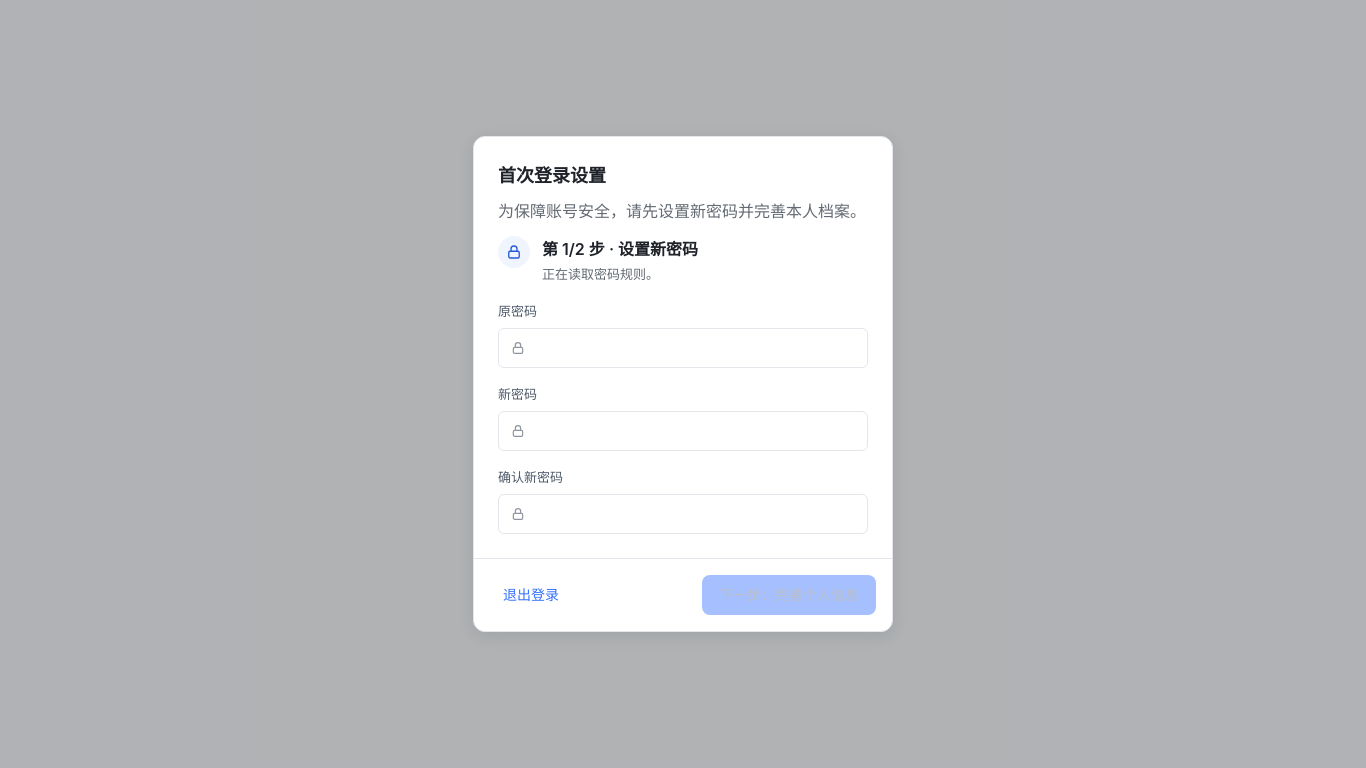
Test: FirstLoginWizard › shows backend password errors and stays on the password step
Step 1. Type "old-password1" into the password field labelled "原密码" → (683, 348), box x1=498 y1=328 x2=868 y2=368
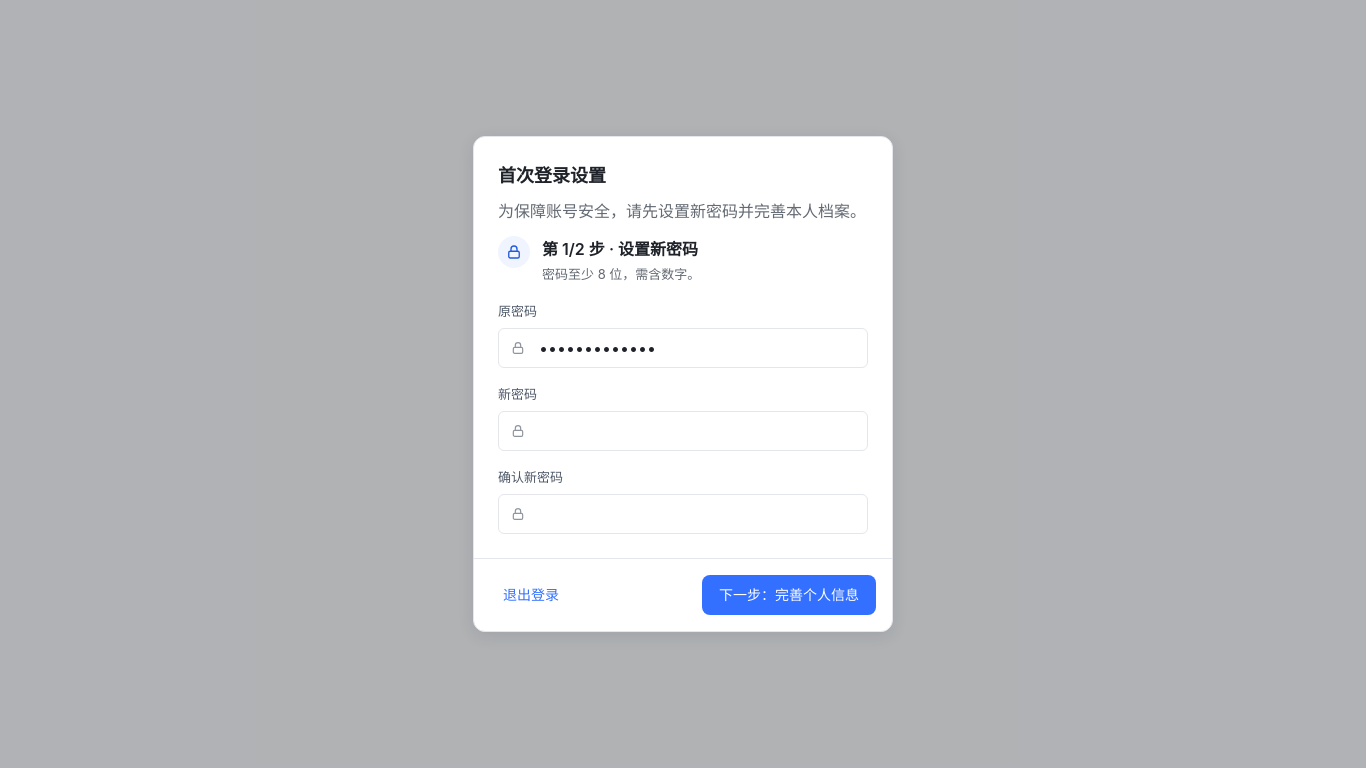
Step 2. Type "new-password1" into the password field labelled "新密码" → (683, 431), box x1=498 y1=411 x2=868 y2=451
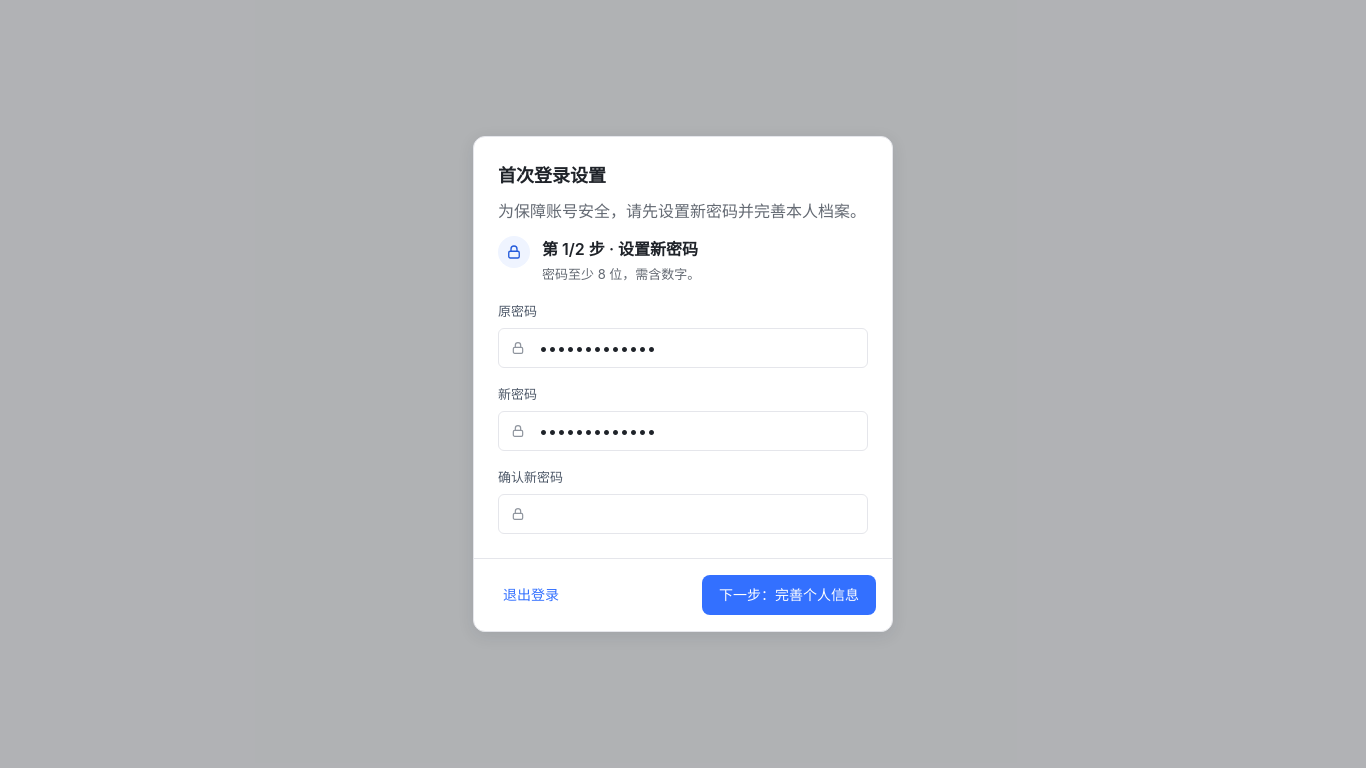
Step 3. Type "new-password1" into the password field labelled "确认新密码" → (683, 514), box x1=498 y1=494 x2=868 y2=534
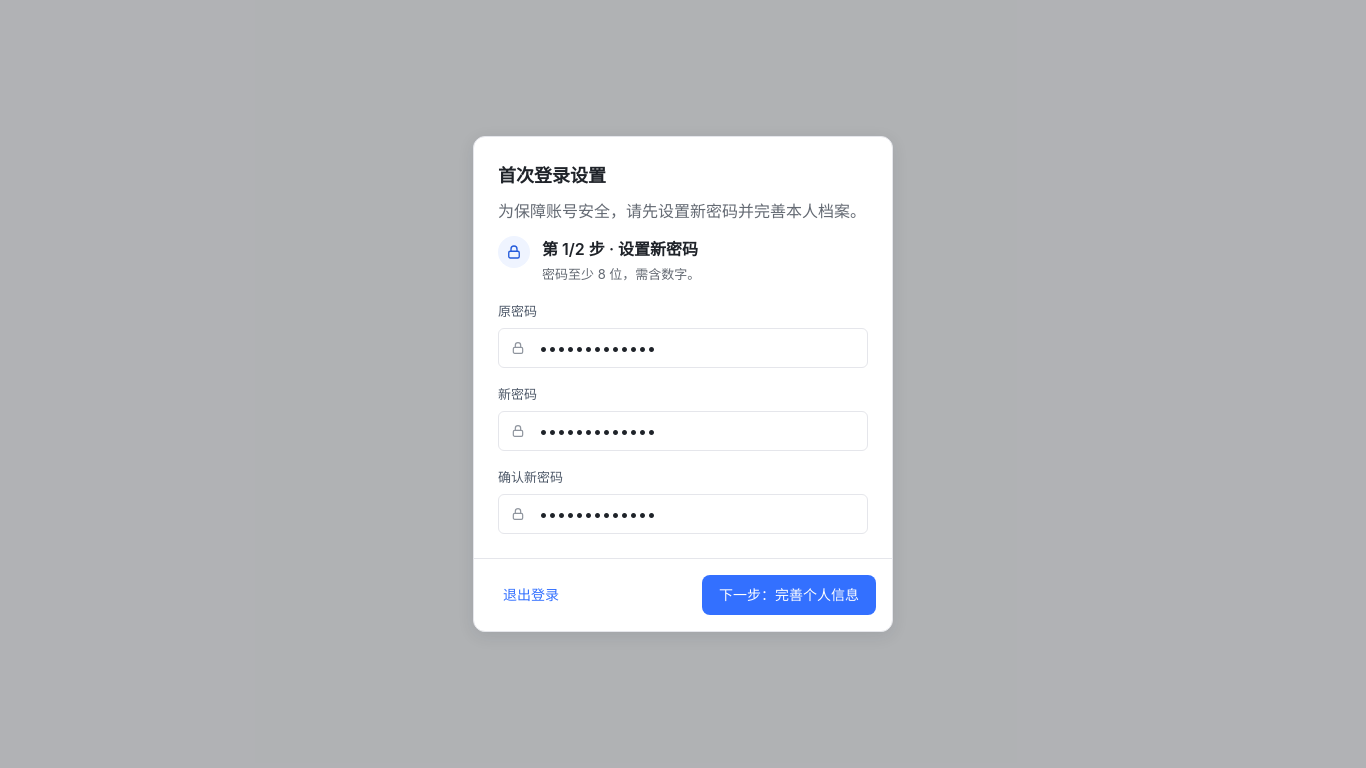
Step 4. Click the button "下一步：完善个人信息" → (789, 595), box x1=702 y1=575 x2=876 y2=615
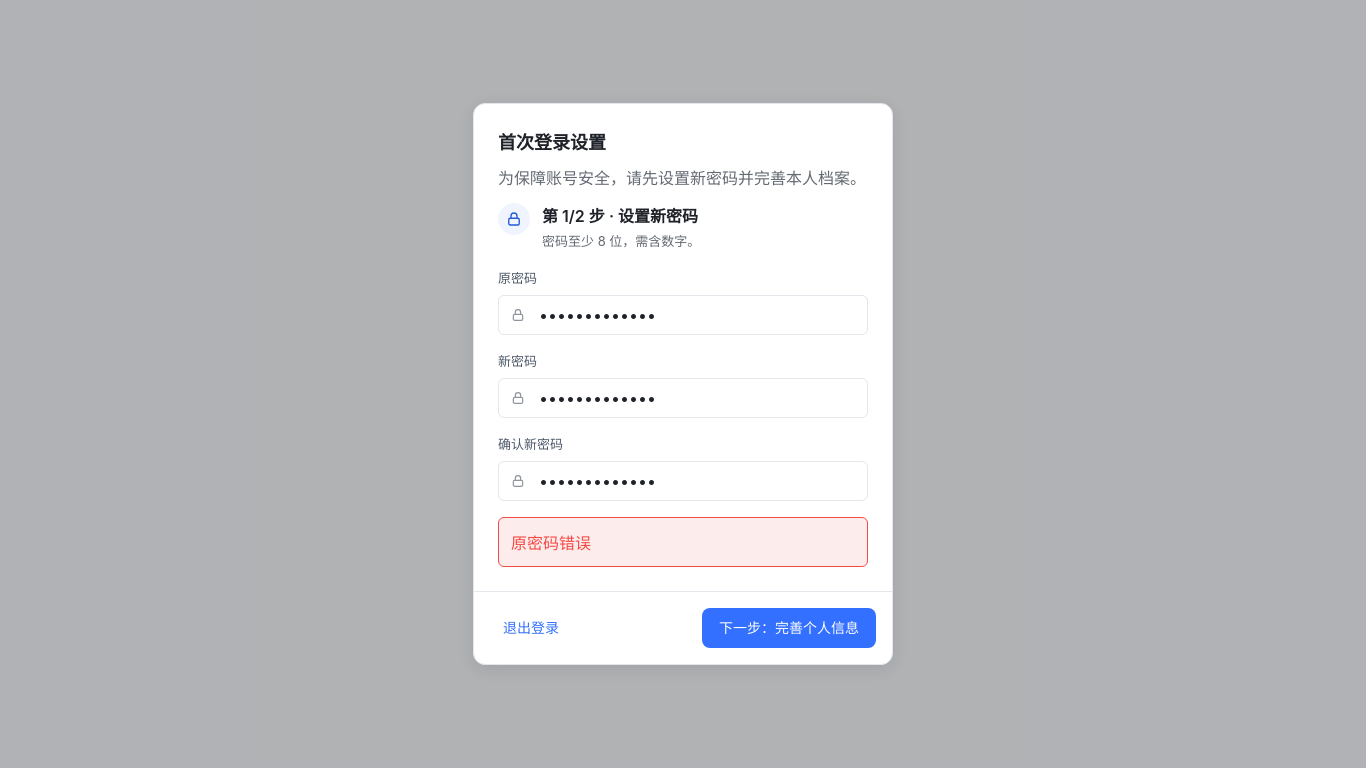
Expected: the heading "第 1/2 步 · 设置新密码" is shown, x1=542 y1=206 x2=698 y2=226
Result: the text "原密码错误" is shown at x1=498 y1=517 x2=868 y2=567
